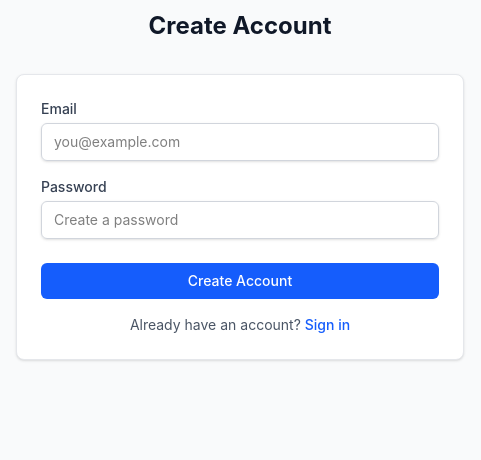
Scenario: RegisterPage › shows an error banner when auto-login fails after registration
The width and height of the screenshot is (481, 460).
In the field labelled "Email": x=240, y=142 [41,123,439,161], type "a@b.com"
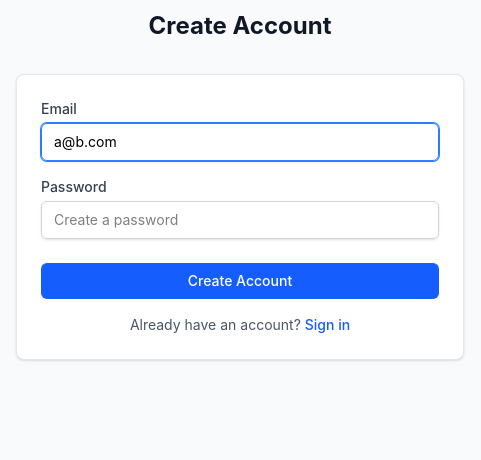
In the password field labelled "Password": x=240, y=220 [41,201,439,239], type "pwd123"
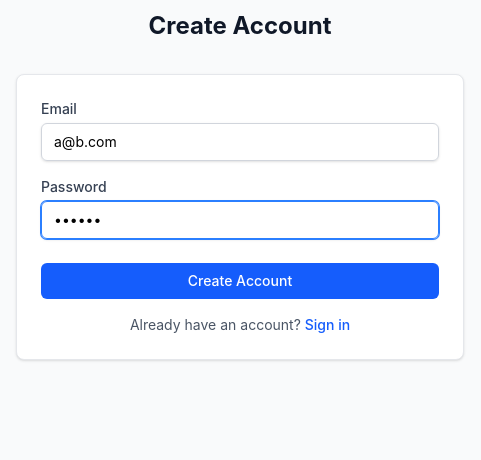
Click the button "Create Account": x=240, y=281 [41,263,439,299]
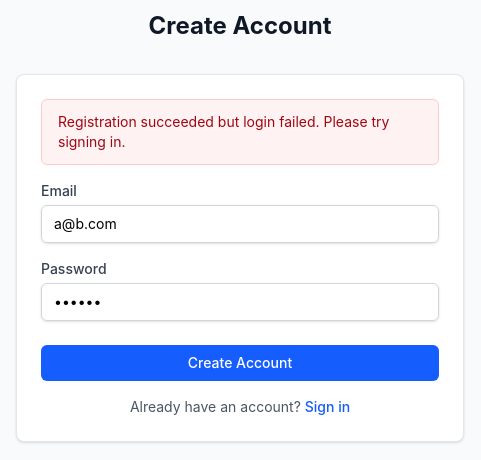
Result: the text "Registration succeeded but login failed. Please try signing in." is shown at [41,99,439,165]
